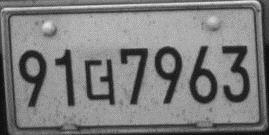1: (50, 47, 83, 108)
3: (220, 43, 250, 103)
6: (188, 44, 218, 104)
7: (117, 46, 150, 104)
9: (17, 48, 48, 108), (153, 45, 184, 105)
더: (82, 58, 117, 107)
